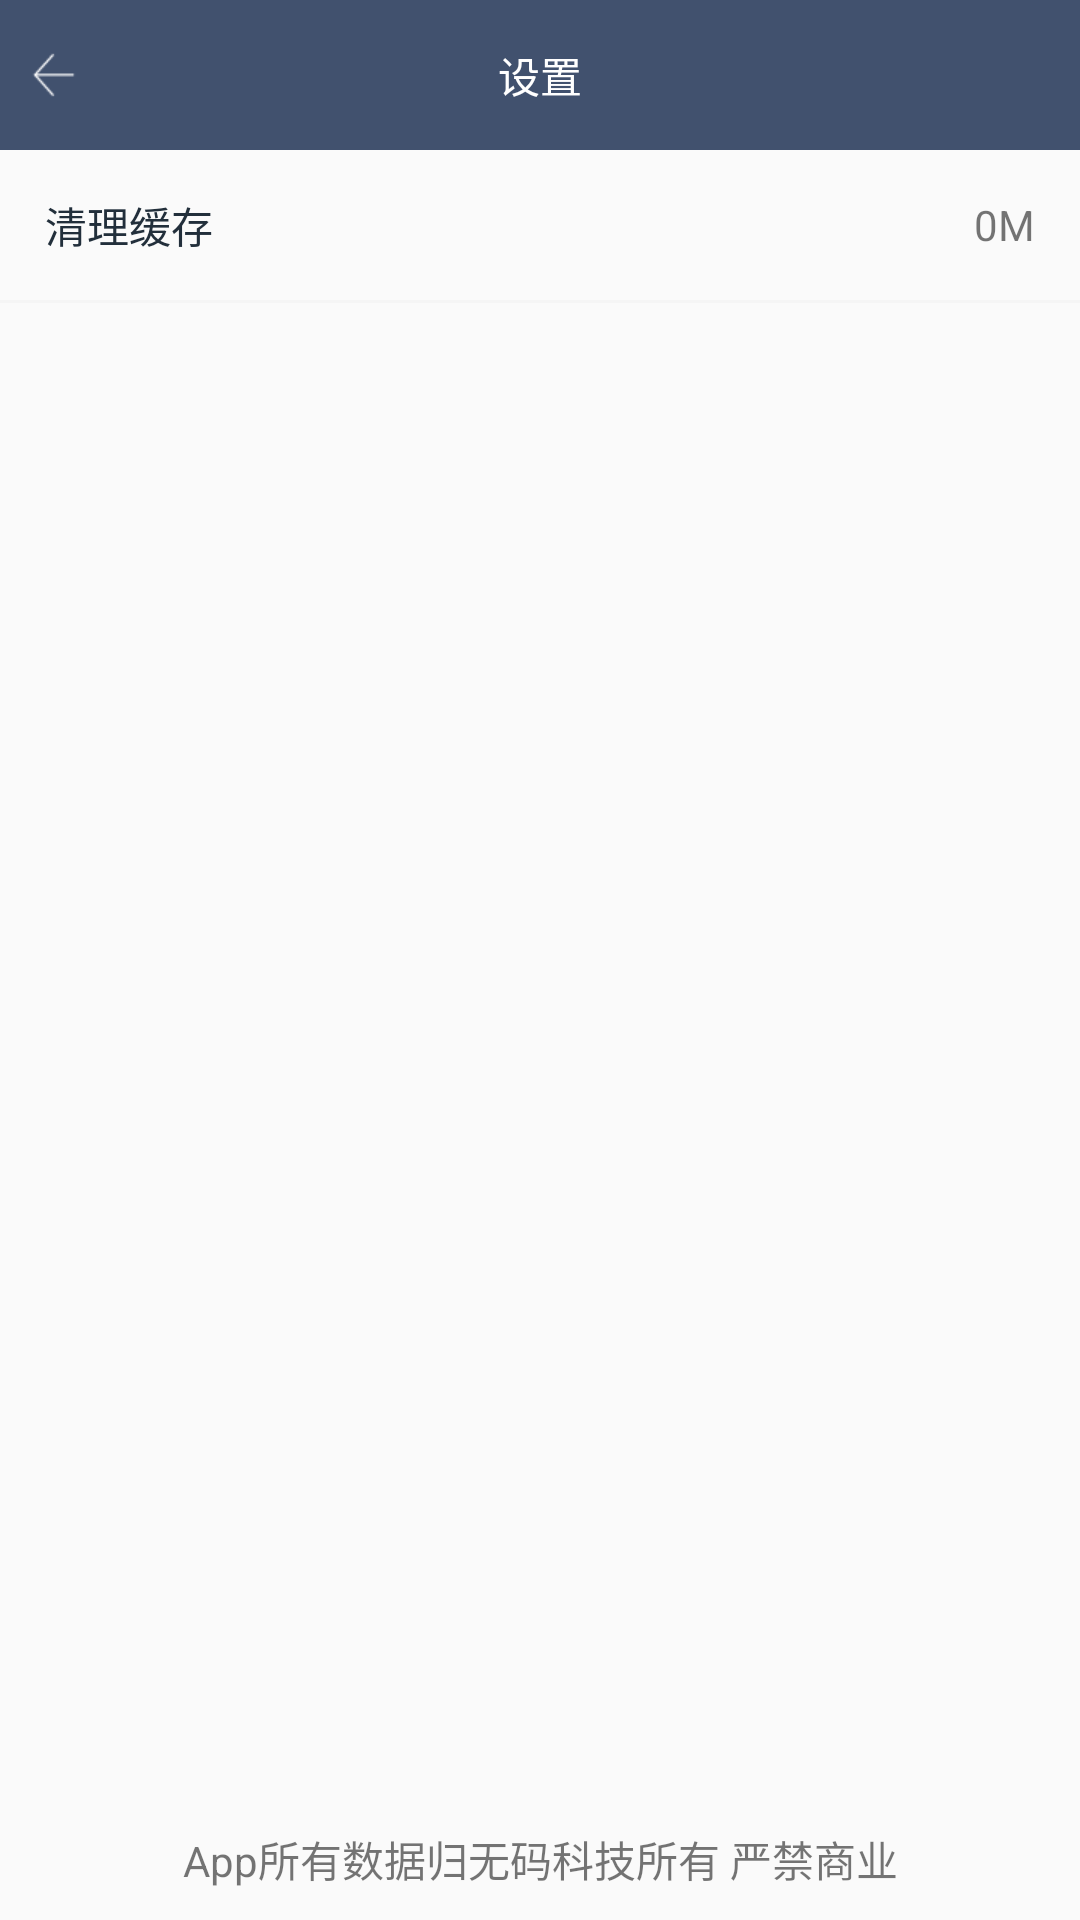

Screen size 1080 × 1920. Icon name, then its center in pixels as point (x, y):
back: point (53, 75)
